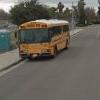Bus: (14, 17, 73, 57)
